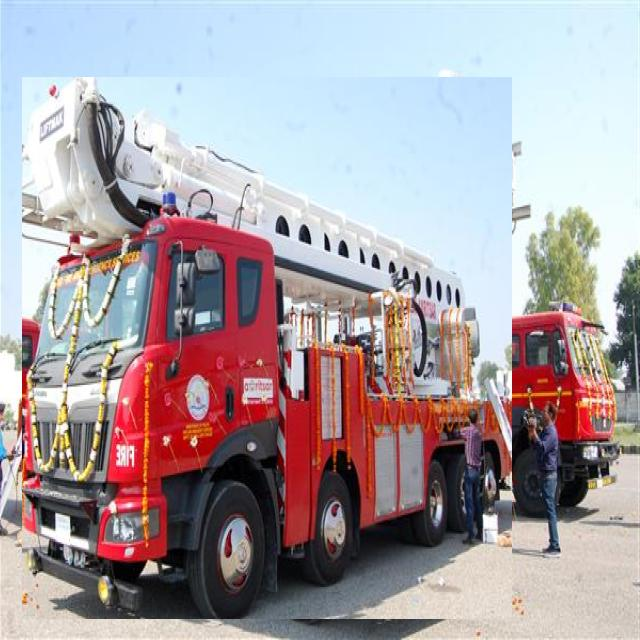emergency: (22, 77, 511, 619), (494, 305, 620, 514)
